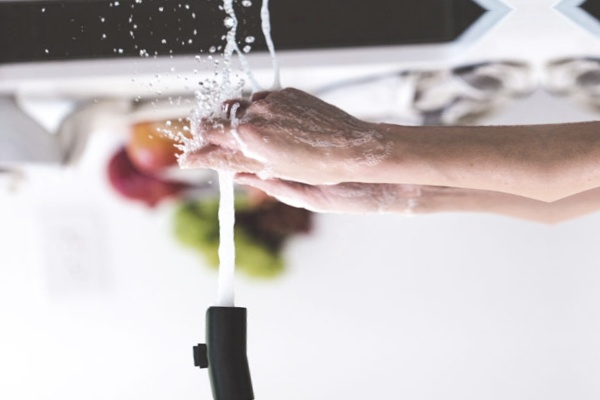washing hand: (57, 71, 483, 348)
